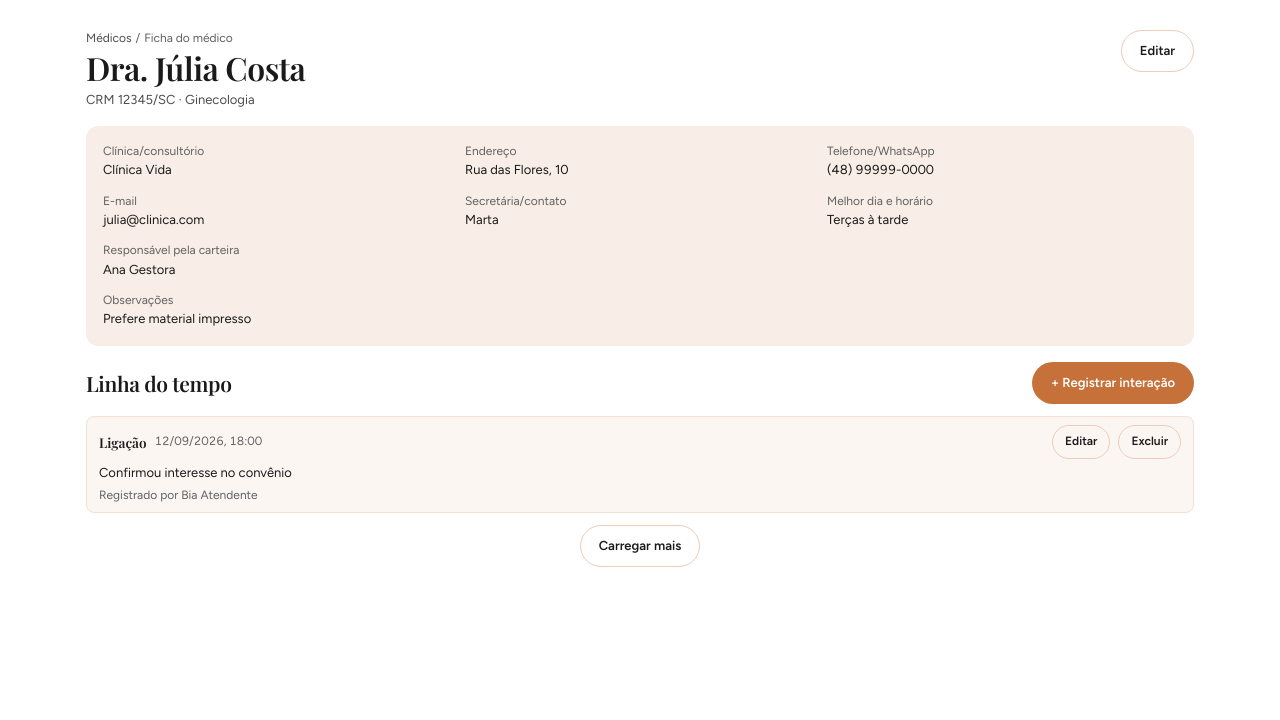
Test: DoctorProfile (/visitation/doctors/:id) › "Carregar mais" pede a próxima página pelo cursor e acumula
What coordinates should you click on to do the following:
click the button "Carregar mais"
I would click on:
 (640, 546)
Its box is [580,525,700,567].
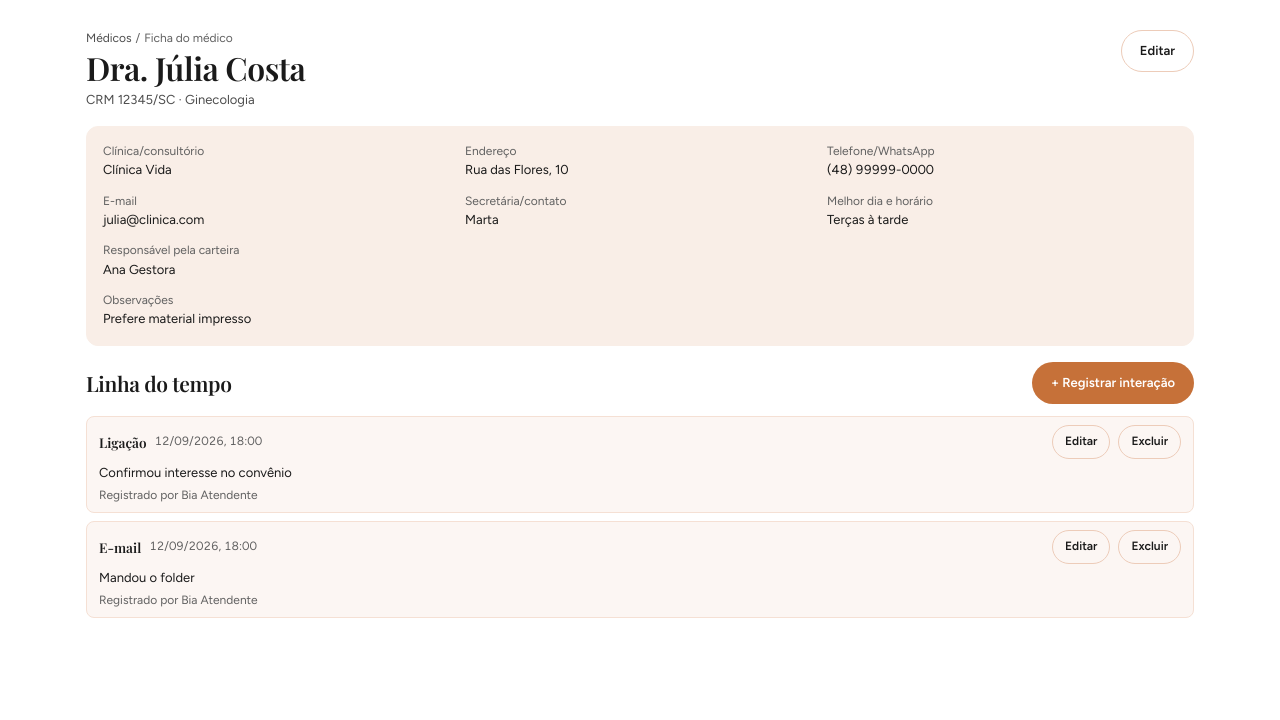
Now the text "Mandou o folder" is shown, box [99,570,194,585]
Now the button "Carregar mais" is gone
